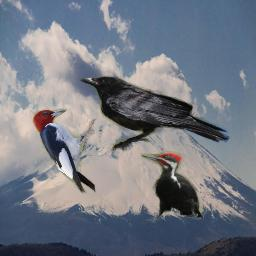Crow: (79, 75, 231, 152)
Woodpecker: (31, 106, 99, 195), (141, 148, 204, 223)
